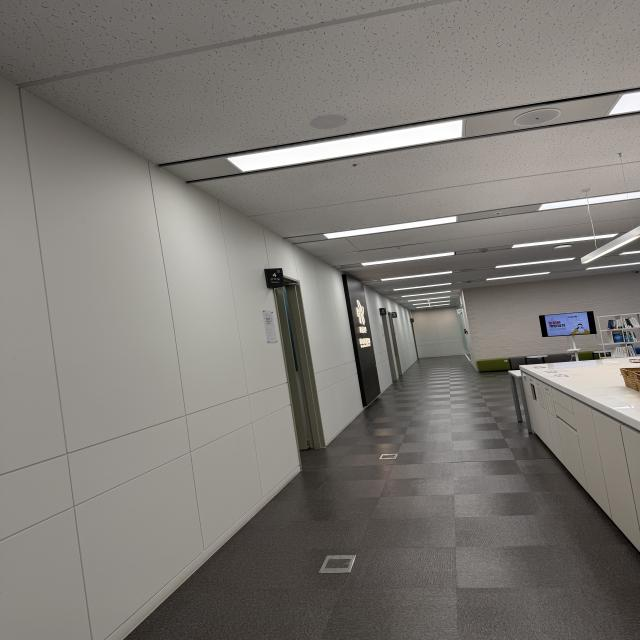room4: (265, 269, 284, 287)
